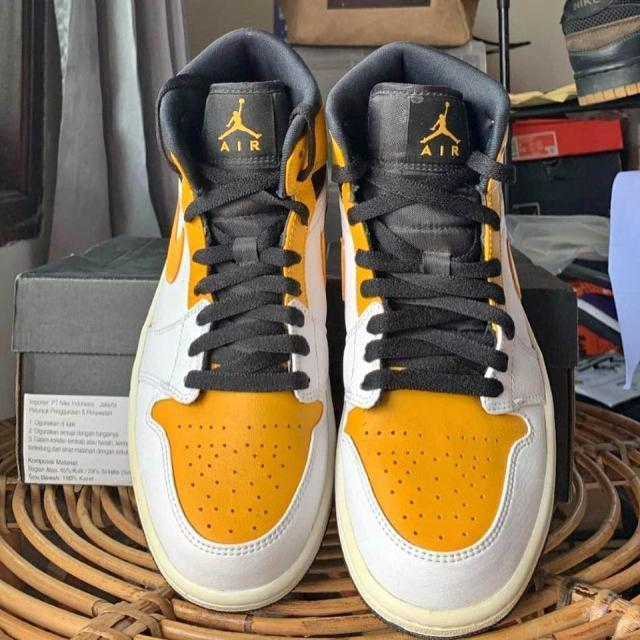nike original jordan 1: (322, 38, 558, 640), (128, 26, 324, 614)
